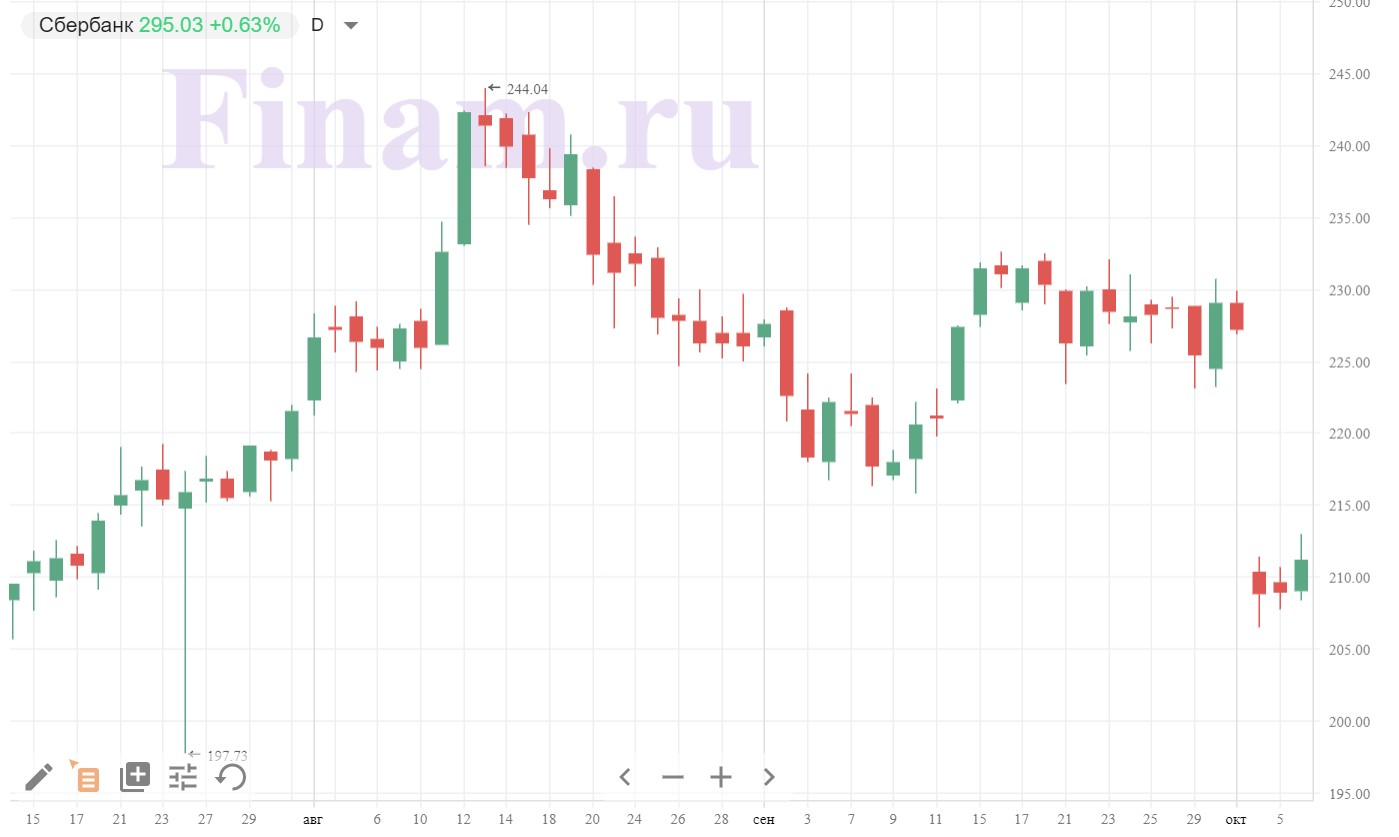bearishEngulfing: (133, 448, 173, 523)
bullishEngulfing: (367, 315, 411, 389)
morningStar: (863, 391, 922, 497)
